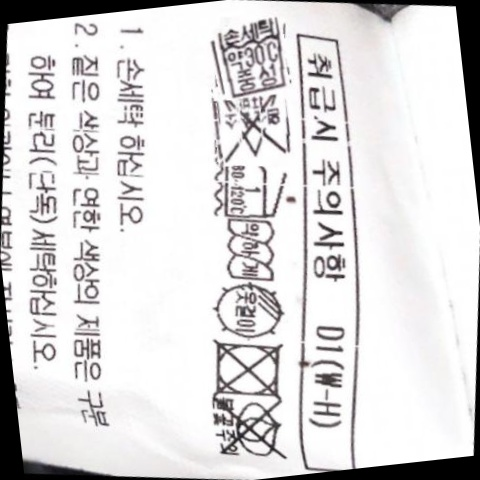DN_tumble_dry: (201, 332, 291, 405)
hand_wash: (209, 19, 294, 97)
iron_low: (215, 158, 288, 224)
line_dry_in_shade: (207, 278, 292, 343)
wring: (219, 215, 281, 287)
